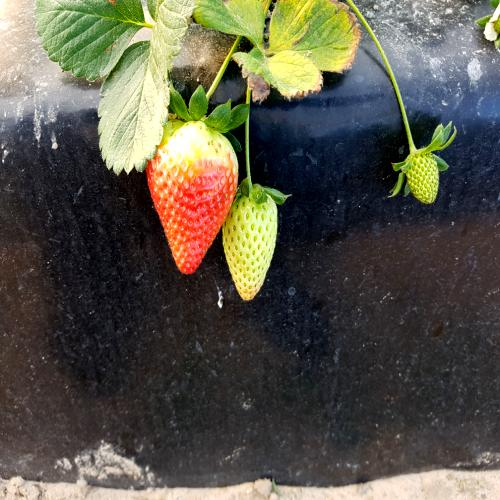partially-ripe: (147, 104, 241, 286)
